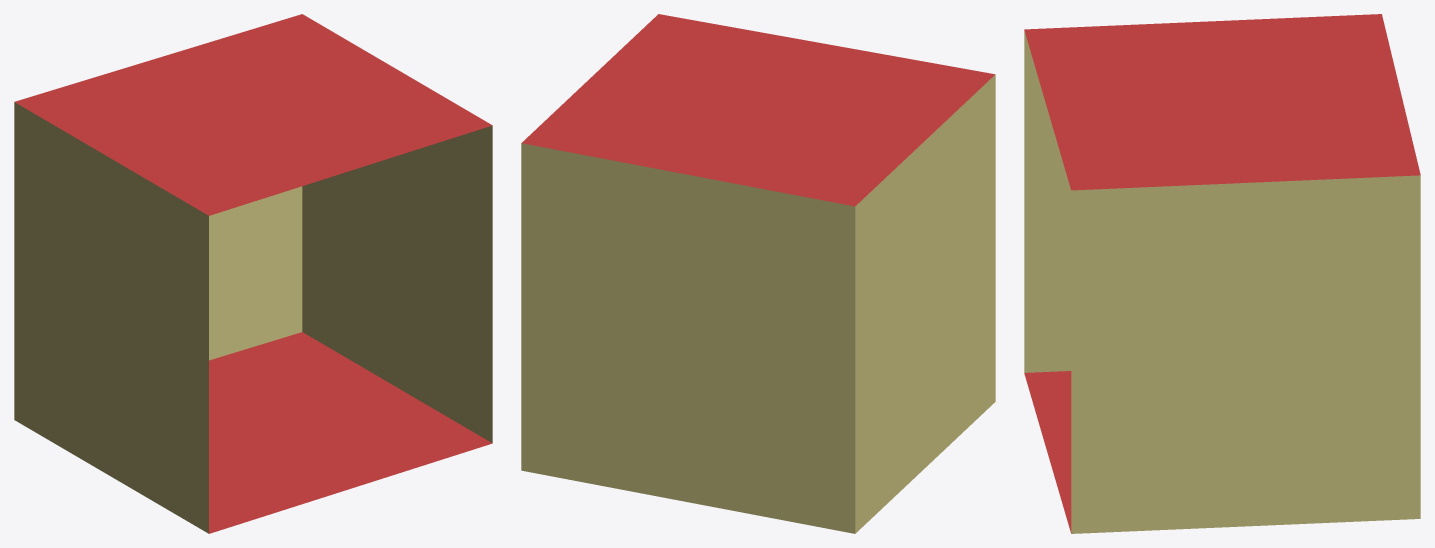
3 views of the same model, side by side, from view 1: azimuth 30°, elevation 25°; view 2: azimuth 150°, elevation 25°; view 3: azimuth 270°, elevation 25° (orthographic). The views are drawn at different scales.
Bounding box in the file's own units: 8.95 × 8.51 × 8.13.
